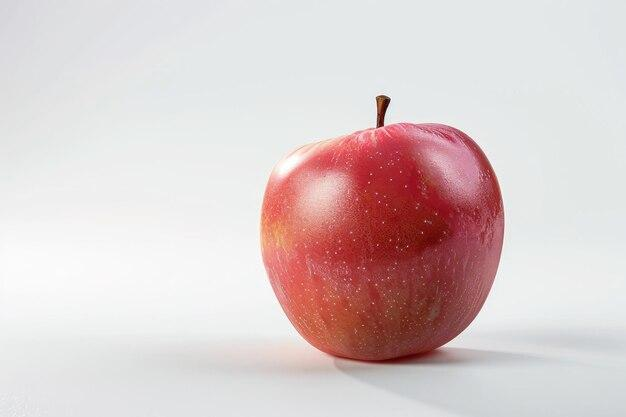apples: (236, 62, 540, 388)
